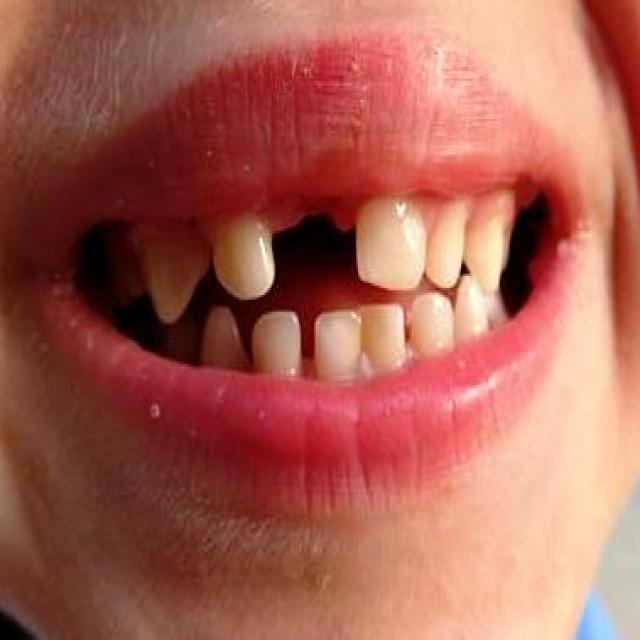hypodontia: (247, 196, 366, 284), (295, 318, 320, 387)
